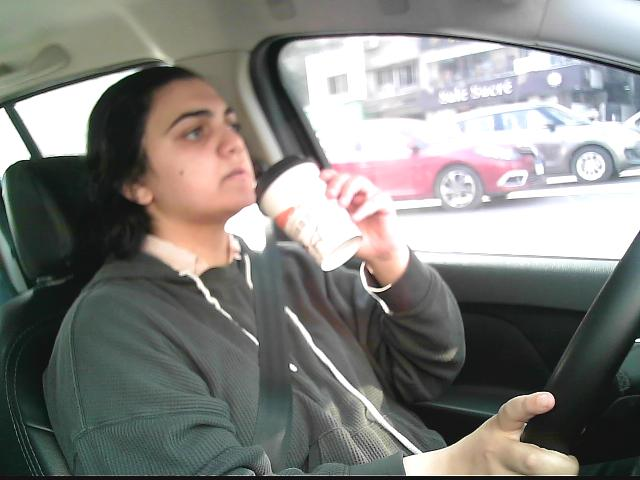Drinking: (253, 153, 364, 276)
